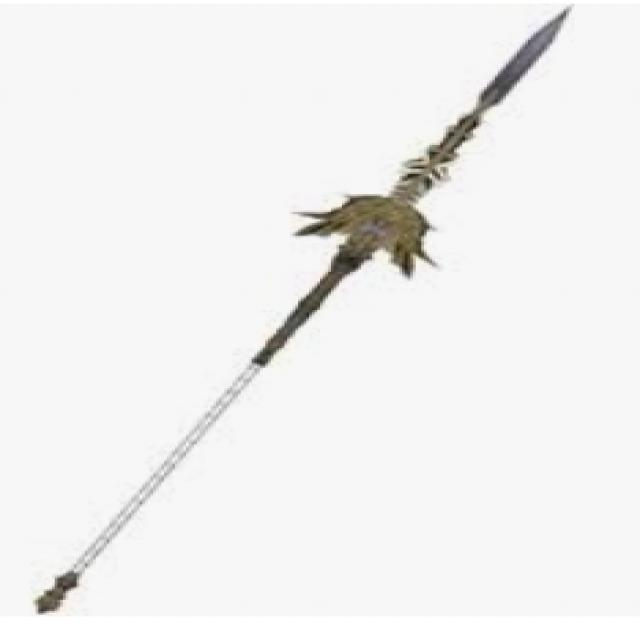spear: (22, 2, 598, 620)
